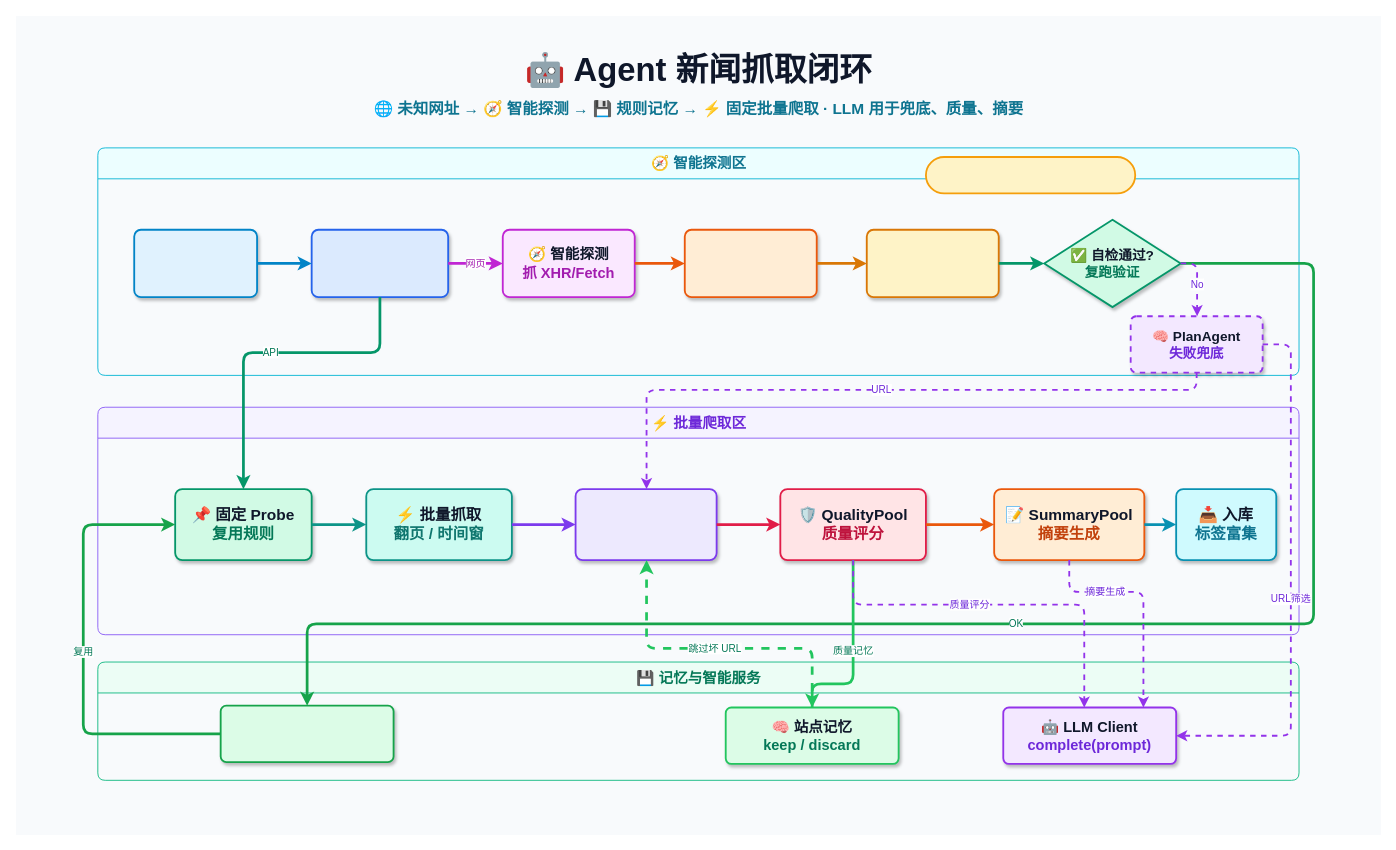
Some shapes in this 1396 by 850 pixel diagram are drawn without their labels. Here are the shapes that lost their labels. From the top down, the centre of each, then its label:
At pixel 1030 175: "🚀 探测一次，复用多次".
At pixel 196 264: "🌐 输入网址 入口".
At pixel 380 264: "🔎 来源识别 RSS / API / 网页".
At pixel 751 264: "🧩 候选 API 文章列表".
At pixel 933 264: "⚙️ 生成规则 字段 + 分页".
At pixel 647 525: "🕸️ CrawlDAG 并发抓正文".
At pixel 307 735: "💾 规则记忆 api_config.probe".
